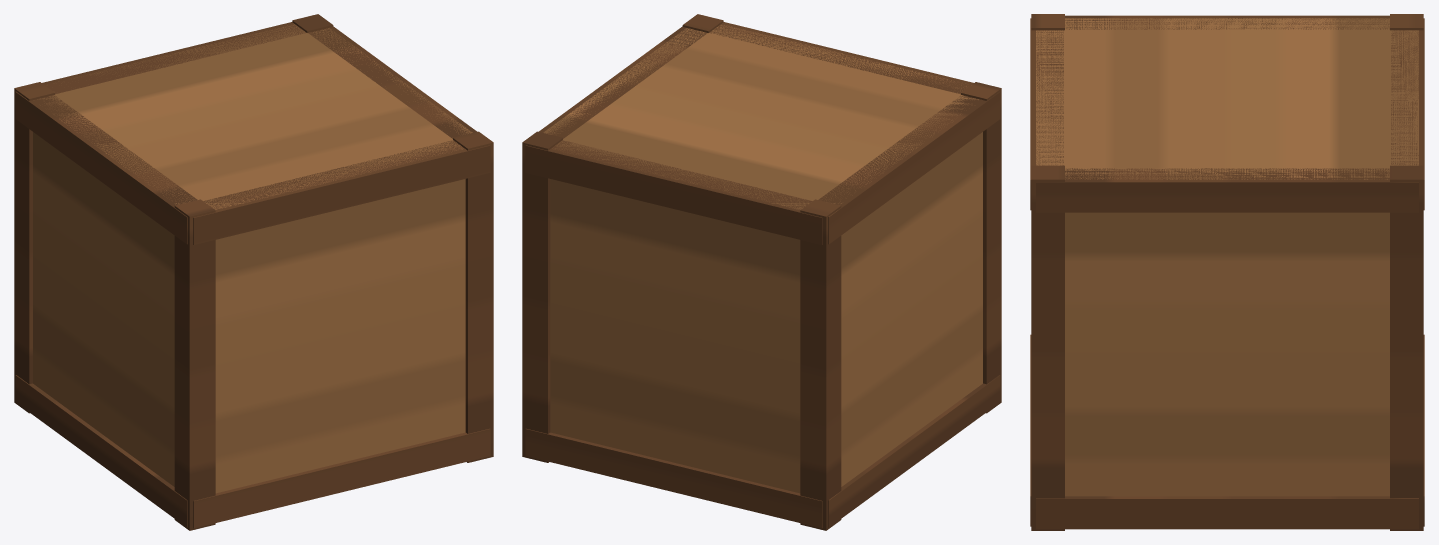
File: SM_Prop_Crate_HQ.glb
3 views of the same model, side by side, from view 1: azimuth 30°, elevation 25°; view 2: azimuth 150°, elevation 25°; view 3: azimuth 270°, elevation 25° (orthographic). The views are drawn at different scales.
Visible parts, largest first — view 1: SM_Prop_Crate_HQ; view 2: SM_Prop_Crate_HQ; view 3: SM_Prop_Crate_HQ.
Part boxes in pixels (x1,y1,x2,y2): SM_Prop_Crate_HQ: [14, 14, 493, 530]; SM_Prop_Crate_HQ: [522, 14, 1001, 530]; SM_Prop_Crate_HQ: [1030, 14, 1424, 530].
Size of the model in its own units: 0.824 by 0.81 by 0.824.
1 material, 1 textured.
